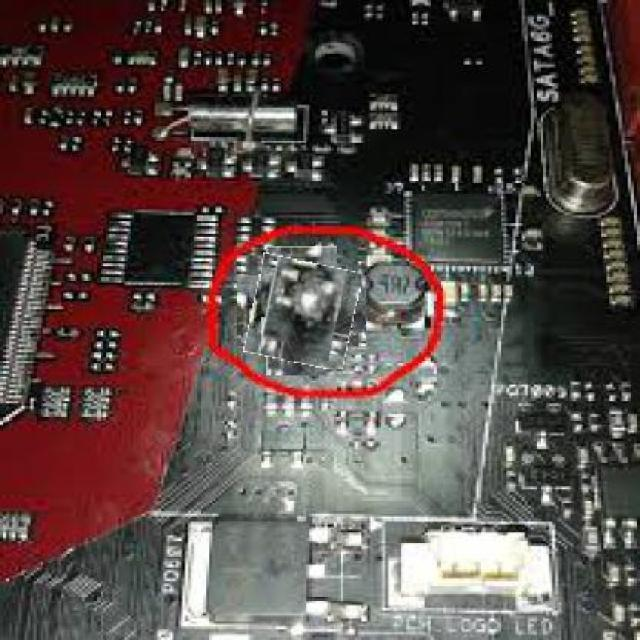Burn: (248, 257, 357, 366)
